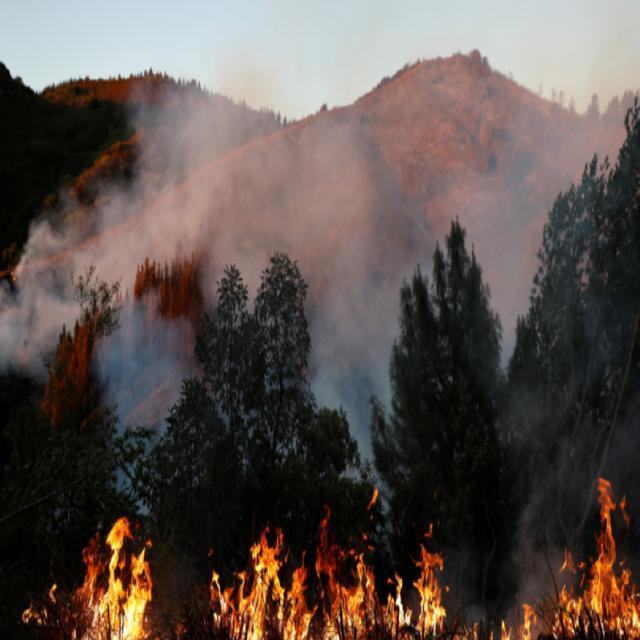Fire: (187, 512, 489, 638), (490, 477, 640, 640), (22, 518, 152, 640)
Smoke: (96, 84, 640, 268), (305, 270, 404, 462), (1, 198, 94, 372), (102, 298, 194, 458)
